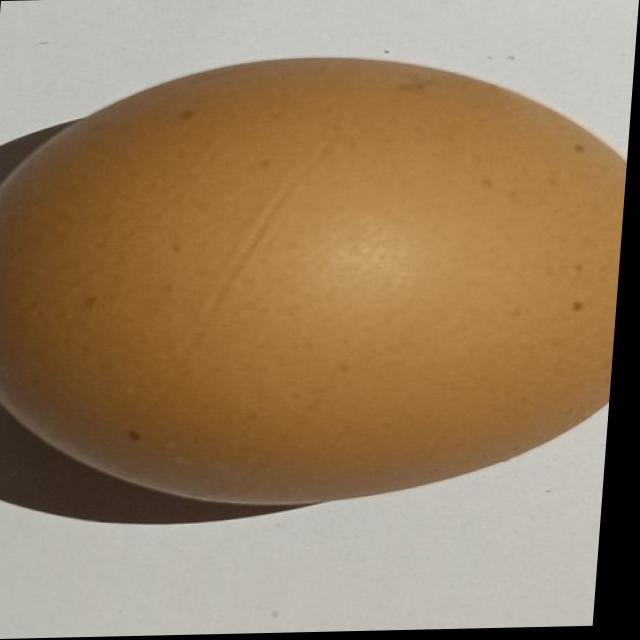unfresh: (0, 45, 637, 511)
